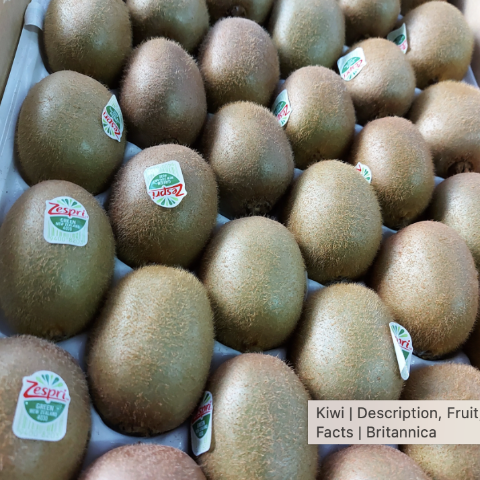kiwi: (74, 246, 226, 440), (287, 269, 416, 425), (4, 172, 124, 335), (178, 341, 318, 480), (368, 211, 480, 378), (280, 149, 388, 291), (110, 27, 213, 165), (118, 139, 218, 272), (341, 109, 436, 231), (267, 62, 365, 170), (207, 89, 299, 199)
